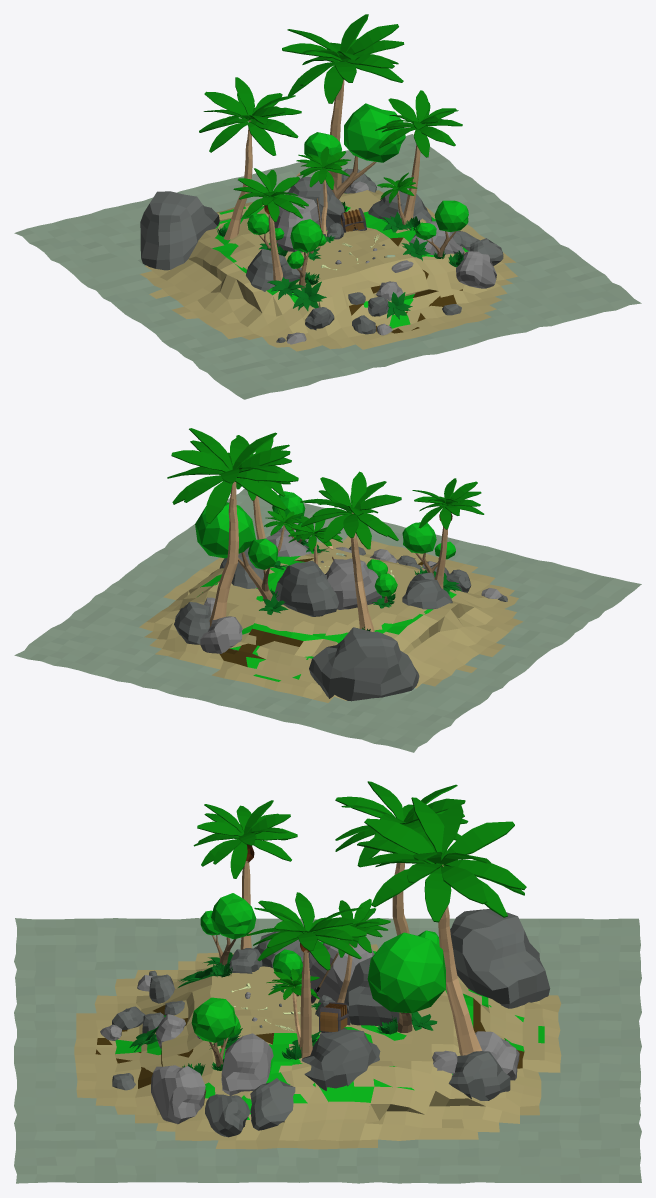
Rendered from island.glb.
3 renders of one model, top to bottom at view 1: azimuth 30°, elevation 25°; view 2: azimuth 150°, elevation 25°; view 3: azimuth 270°, elevation 25°, orthographic. The views are drawn at different scales.
Visible parts, largest first — view 1: sea, palm3, Cube.007, palm4, fa.003, palm5, palm, palm2.001, fa.001, fa, Cube.009, Cube.004 (+7 smaller); view 2: sea, palm3, Cube.007, palm4, fa.003, Cube.004, palm, Cube.011, fa, Cube.003, Cube.006, Cube.002 (+6 smaller); view 3: sea, palm3, Cube.007, fa.003, palm5, palm, palm4, Cube.012, Cube.009, Cube.001, Cube.006, fa (+13 smaller).
Boxes of the visible parts, x1,y1,x2,y2 form: sea: [14, 134, 641, 399]; palm3: [282, 14, 404, 188]; Cube.007: [140, 191, 219, 270]; palm4: [199, 77, 301, 240]; fa.003: [304, 103, 405, 199]; palm5: [375, 90, 462, 223]; palm: [233, 168, 308, 281]; palm2.001: [296, 146, 350, 235]; fa.001: [415, 200, 468, 257]; fa: [287, 219, 322, 288]; Cube.009: [456, 251, 496, 288]; Cube.004: [286, 177, 344, 230]; sea: [14, 488, 641, 752]; palm3: [167, 428, 298, 627]; Cube.007: [309, 627, 419, 701]; palm4: [300, 471, 401, 631]; fa.003: [195, 502, 277, 604]; Cube.004: [275, 560, 338, 616]; palm: [412, 478, 484, 588]; Cube.011: [325, 558, 381, 609]; fa: [402, 522, 455, 575]; Cube.003: [200, 616, 242, 653]; Cube.006: [174, 602, 210, 644]; Cube.002: [402, 579, 452, 609]; sea: [14, 918, 641, 1183]; palm3: [357, 797, 526, 1055]; Cube.007: [450, 909, 550, 1008]; fa.003: [367, 930, 445, 1032]; palm5: [246, 892, 366, 1058]; palm: [193, 800, 297, 949]; palm4: [335, 781, 468, 935]; Cube.012: [301, 1029, 380, 1090]; Cube.009: [151, 1065, 205, 1124]; Cube.001: [221, 1033, 273, 1095]; Cube.006: [448, 1051, 510, 1100]; fa: [200, 893, 256, 965].
Bounding box in the file's own units: 280 × 143 × 280.
